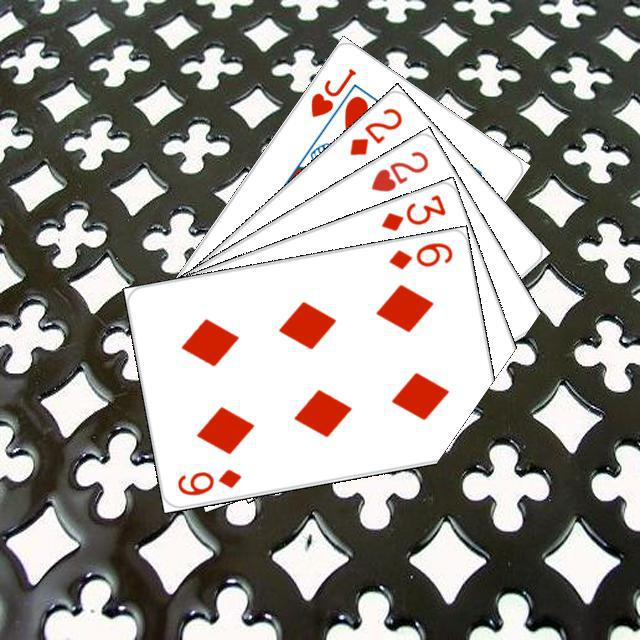2d: (344, 102, 404, 158)
2h: (366, 146, 431, 194)
3d: (376, 189, 448, 233)
6d: (383, 237, 455, 271), (172, 464, 243, 498)
Jh: (305, 63, 358, 119)
